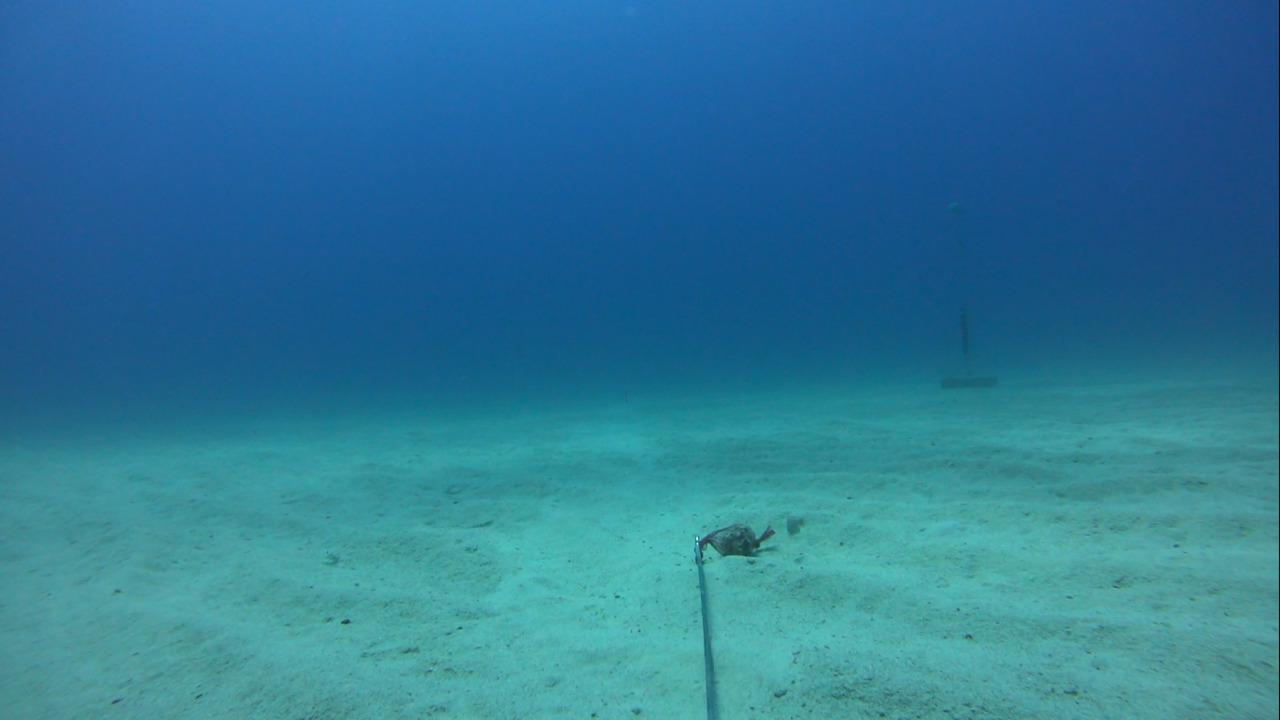raor: (776, 508, 813, 538)
